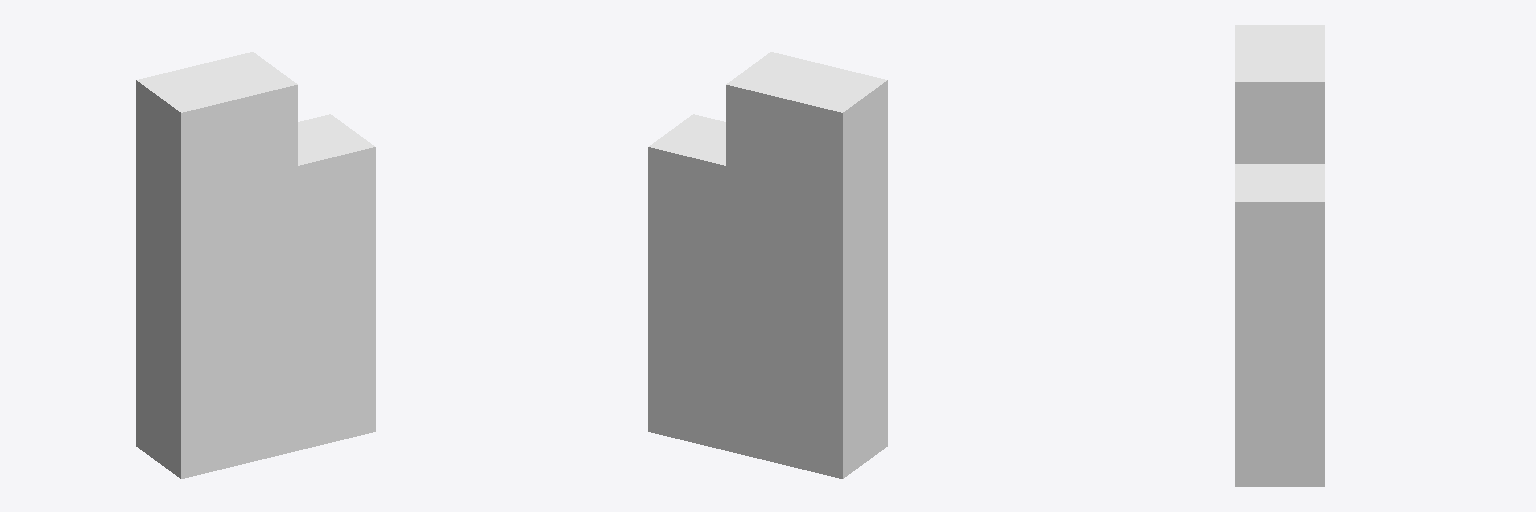
The model's file is STATION_DOOR2.obj.
3 renders of one model, left to right at view 1: azimuth 30°, elevation 25°; view 2: azimuth 150°, elevation 25°; view 3: azimuth 270°, elevation 25°, orthographic.
Parts seen in each view (by area): view 1: object 1; view 2: object 1; view 3: object 1.
Boxes of the visible parts, <box> form: object 1: <box>136,52,375,478</box>; object 1: <box>648,52,887,478</box>; object 1: <box>1235,25,1324,486</box>.
Size of the model in its own units: 0.5 by 0.9 by 0.2.